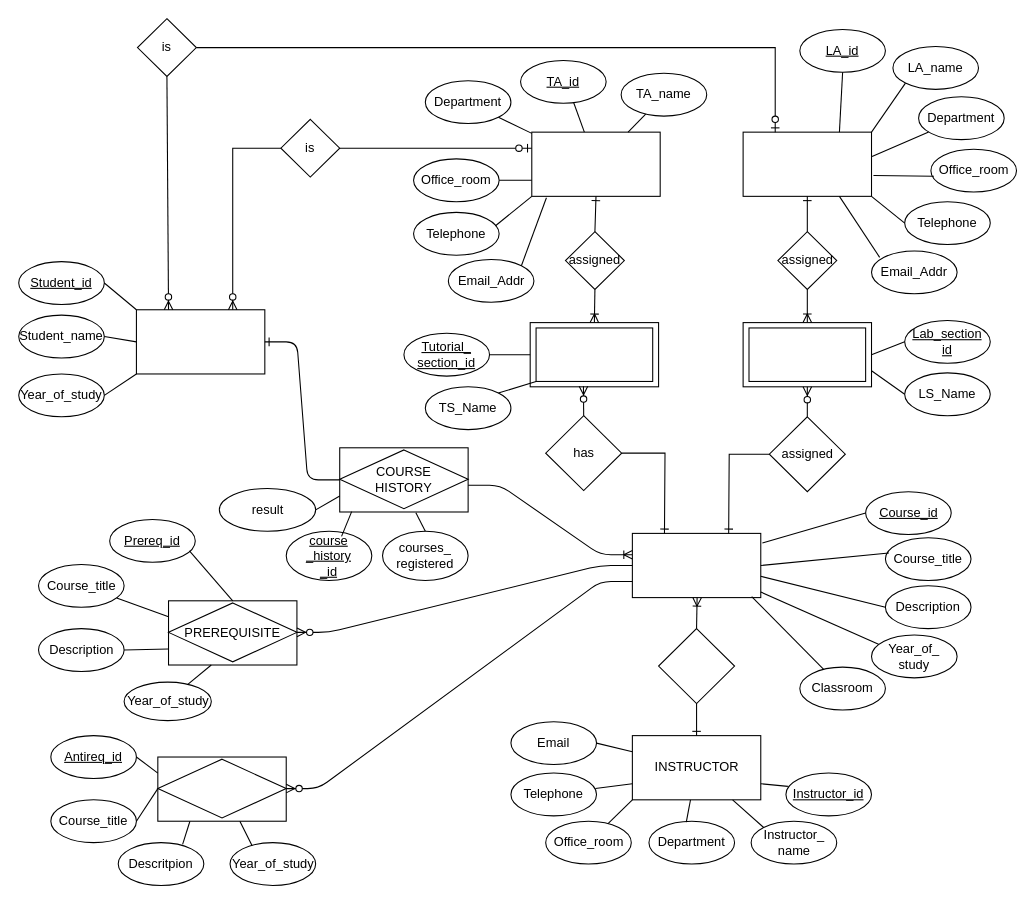
Image size: 1036x904. Some labels were removed from this diagram. Here are the shapes that lost their labels. From the top down, the box of each, then its label:
(531, 131, 660, 196): TA
(742, 131, 872, 196): LA
(135, 309, 265, 374): STUDENT
(535, 327, 653, 381): TUTORIAL SECTION
(748, 327, 866, 381): LAB SECTION
(631, 532, 761, 598): COURSE
(658, 628, 735, 704): instructs
(157, 758, 286, 818): ANTIREQUISITE
